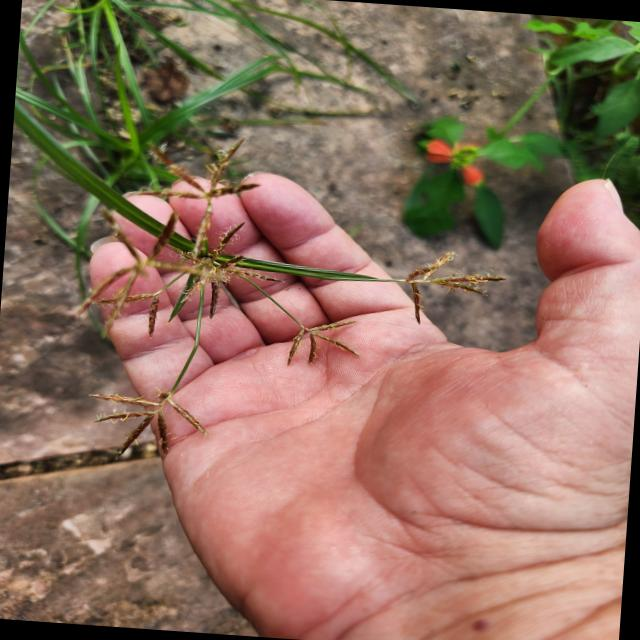cyperus: (74, 126, 516, 488), (83, 128, 299, 340), (74, 362, 206, 459), (394, 242, 504, 338), (262, 302, 360, 374)
